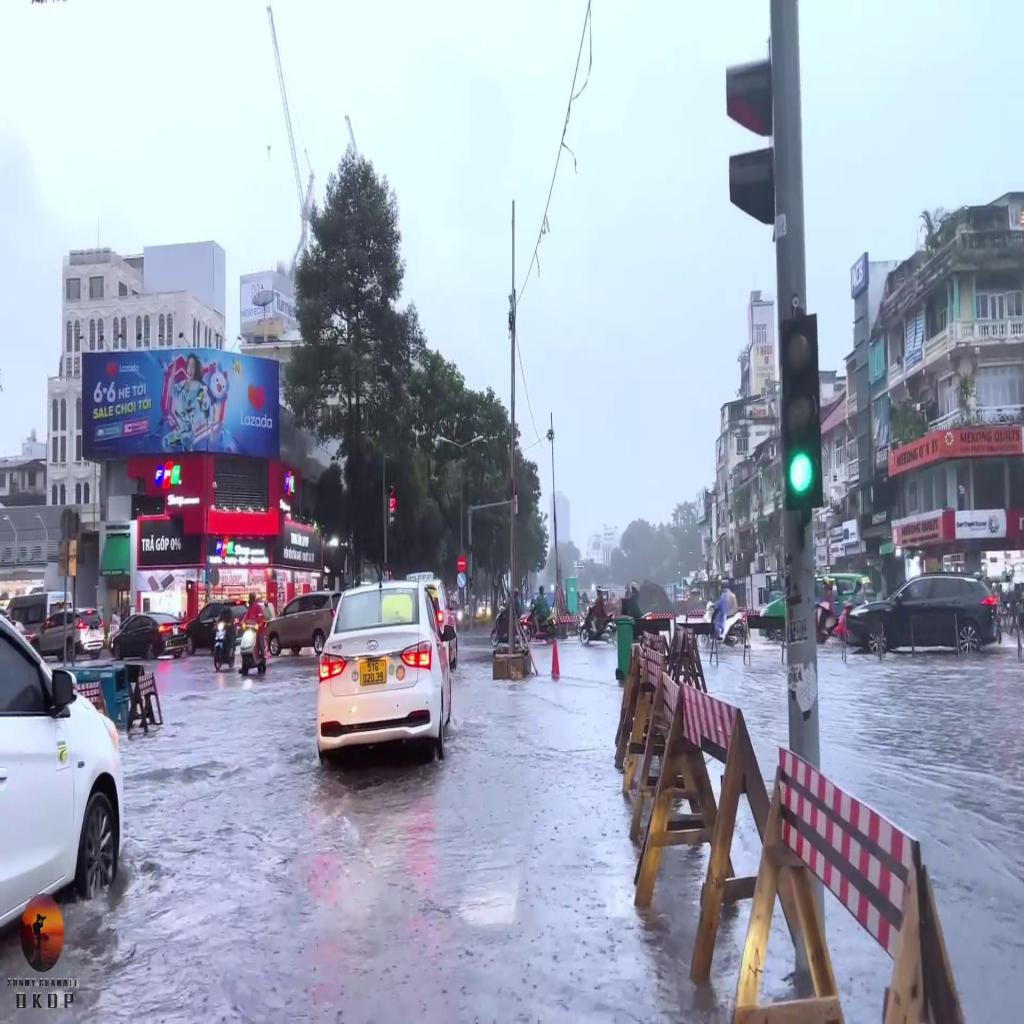cam_xe_di_nguoc_chieu: (456, 554, 466, 570)
huong_phai_di_vuot_chuong_ngai_vat_phai: (456, 572, 466, 588)
